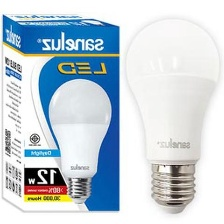carton: (0, 8, 124, 215)
light_bulb: (122, 14, 222, 216)
